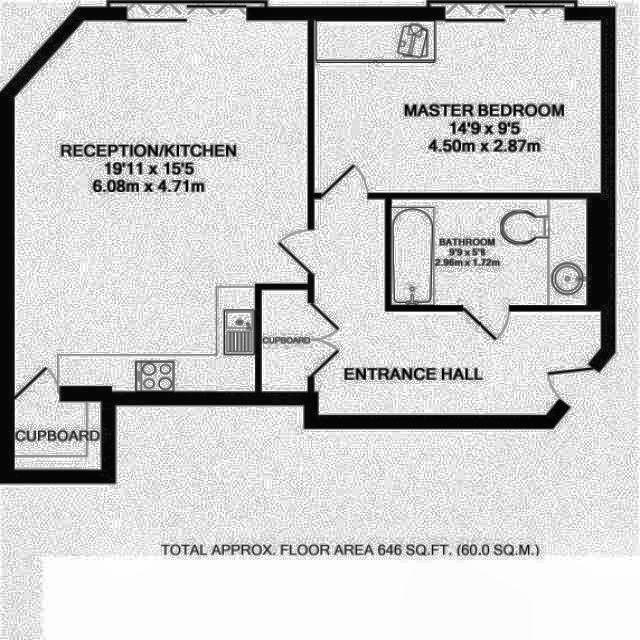room: (15, 21, 309, 391), (315, 198, 602, 414), (316, 22, 599, 192), (392, 199, 586, 304), (16, 403, 100, 469), (262, 290, 306, 391)
